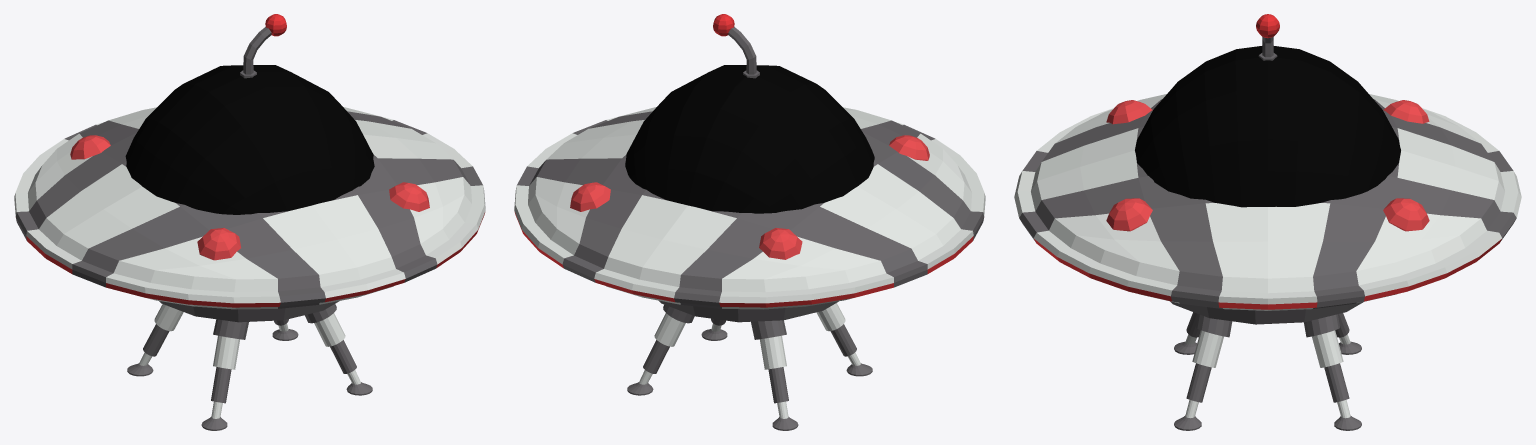
File: ufo.glb
The picture shows the model from 3 angles, left to right: view 1: azimuth 30°, elevation 25°; view 2: azimuth 150°, elevation 25°; view 3: azimuth 270°, elevation 25°; orthographic projection. The views are drawn at different scales.
Visible parts, largest first — view 1: Cylinder_007; view 2: Cylinder_007; view 3: Cylinder_007.
Part boxes in pixels (left/top/right/bottom): Cylinder_007: left=14, top=14, right=485, bottom=430; Cylinder_007: left=514, top=14, right=985, bottom=430; Cylinder_007: left=1014, top=14, right=1521, bottom=430.
Size of the model in its own units: 2.4 by 2.01 by 2.4.
